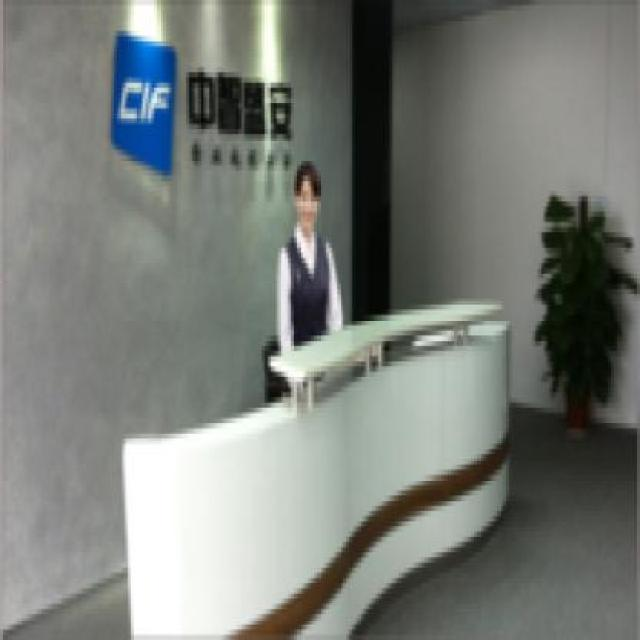frontdesk: (115, 284, 521, 640)
